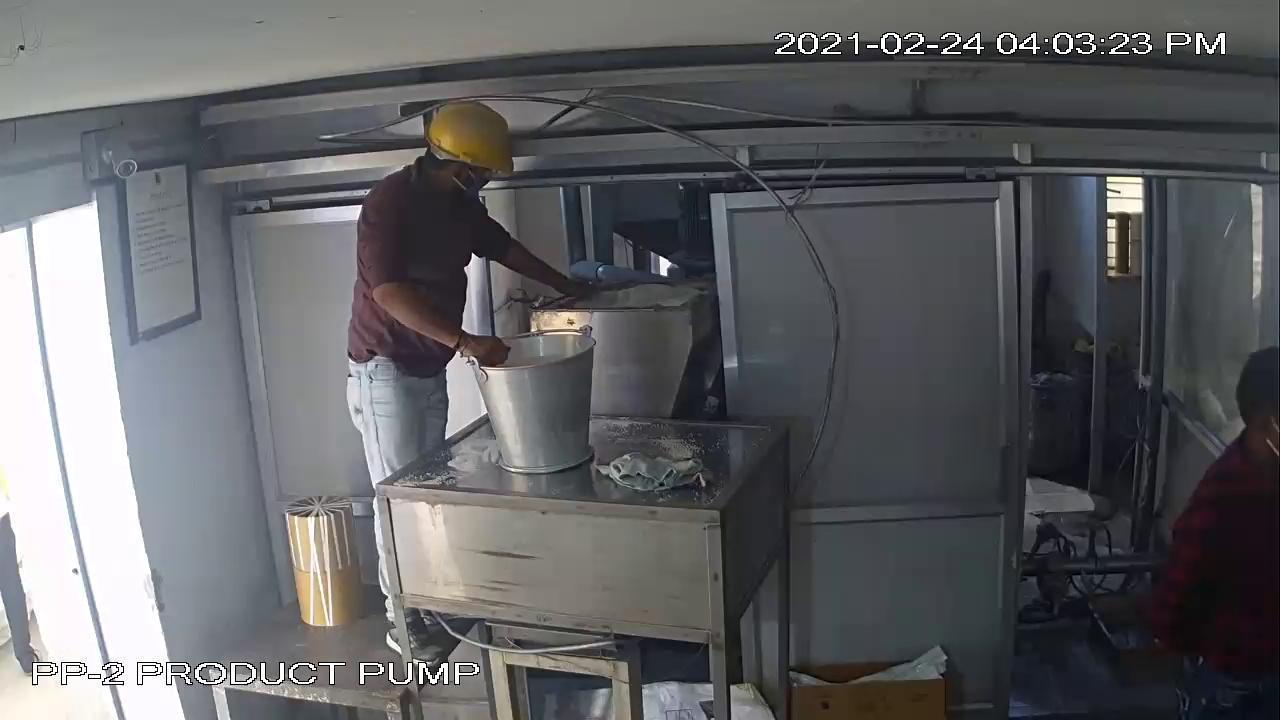helmet: (423, 102, 534, 179)
